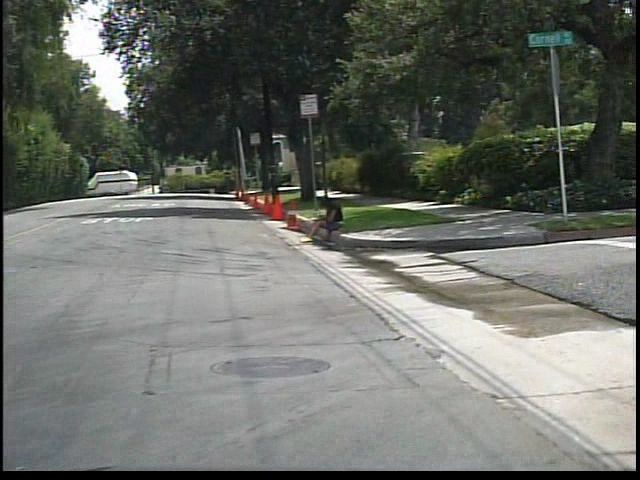person: (302, 193, 355, 246)
